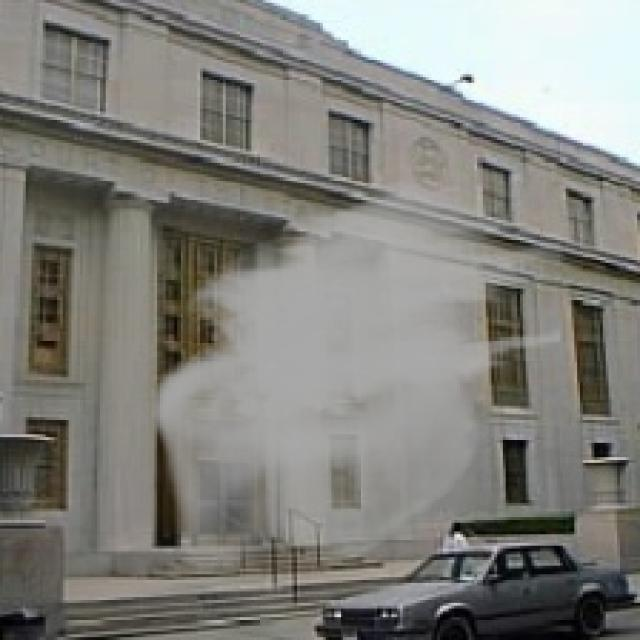smoke: (151, 174, 566, 577)
